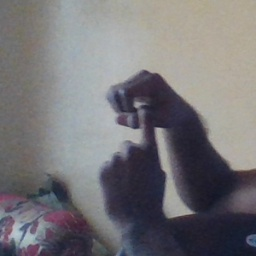Q: (96, 68, 190, 200)
